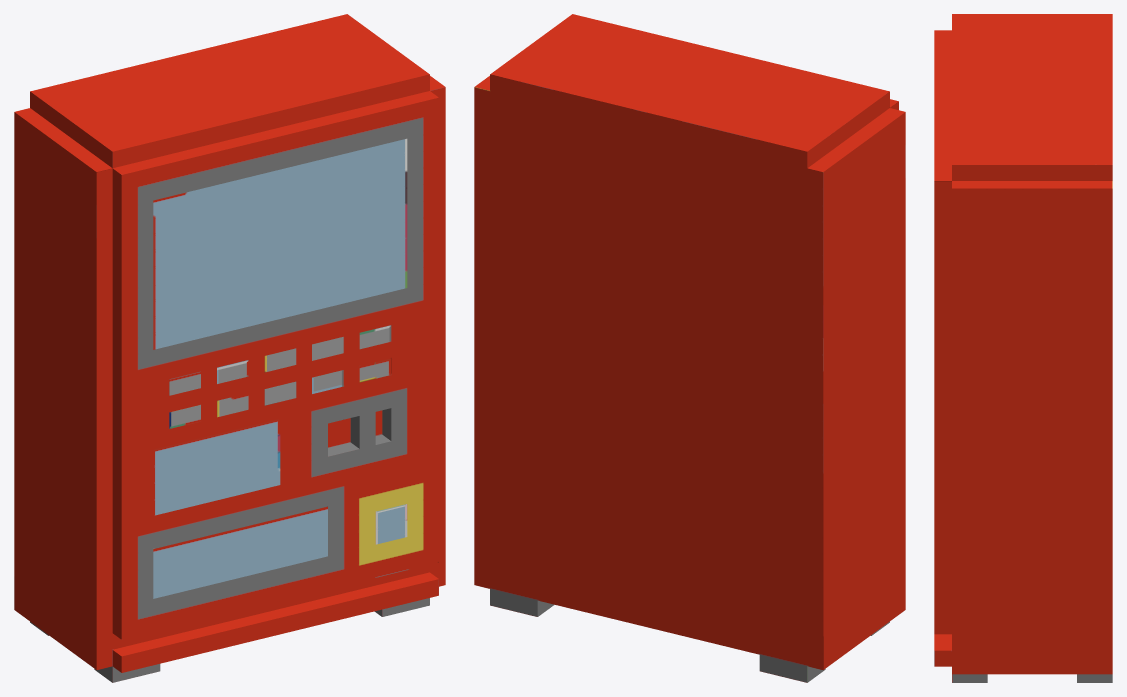
Rendered from vending_test.fbx.
The picture shows the model from 3 angles, left to right: view 1: azimuth 30°, elevation 25°; view 2: azimuth 150°, elevation 25°; view 3: azimuth 270°, elevation 25°; orthographic projection. The views are drawn at different scales.
Visible parts, largest first — view 1: Body, water, Lingt; view 2: Body; view 3: Body.
Part boxes in pixels (box(x1,y1,x2,y2)): Body: box(14, 14, 445, 682); water: box(153, 138, 407, 598); Lingt: box(169, 325, 391, 428); Body: box(474, 14, 905, 682); Body: box(934, 14, 1112, 682).
Size of the model in its own units: 1.37 by 2 by 0.624.
2 materials, 2 textured.
